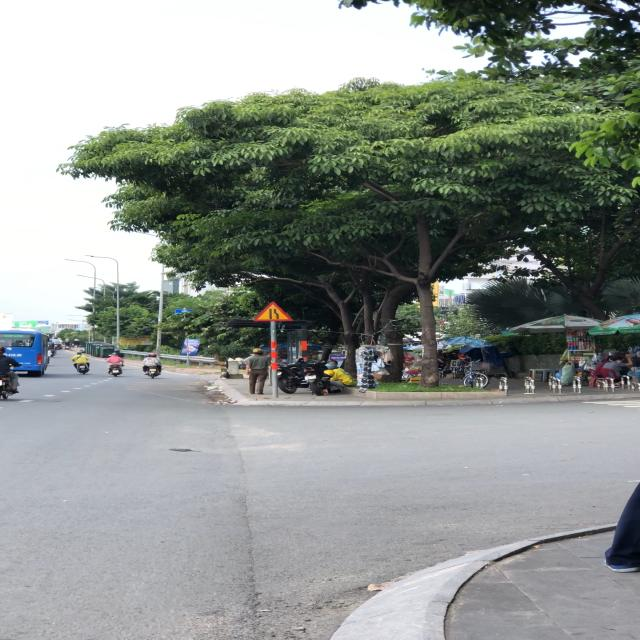Bien bao duong bi thu hep: (249, 300, 298, 322)
